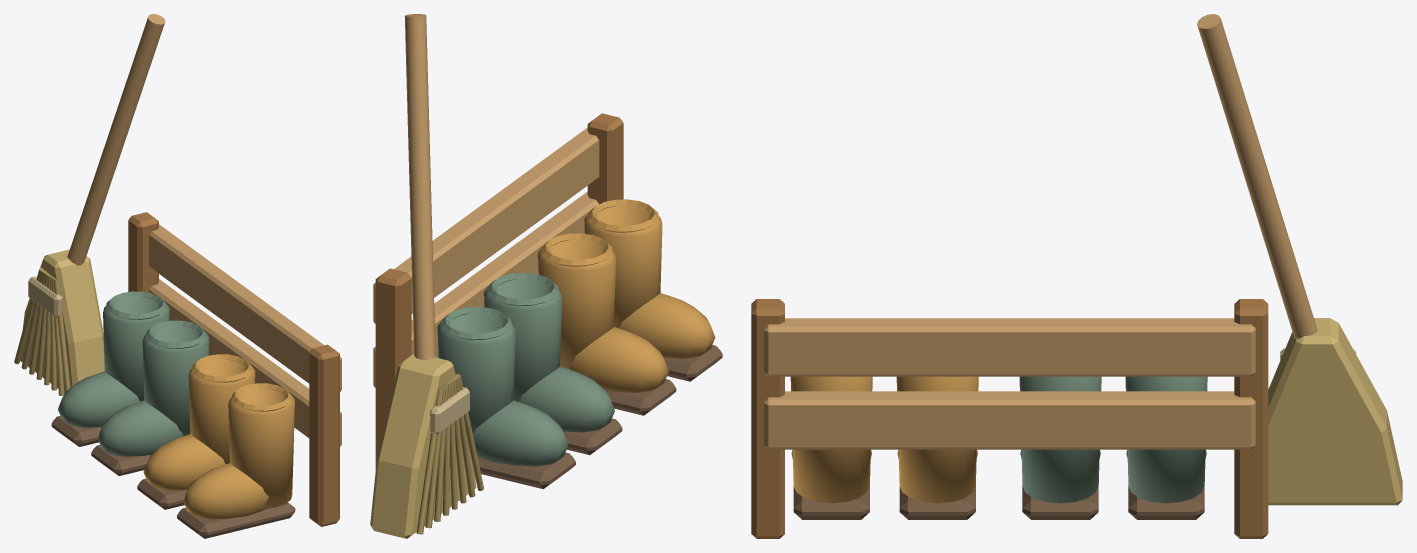
File: SM_BootsAndBroom.fbx
3 renders of one model, left to right at view 1: azimuth 30°, elevation 25°; view 2: azimuth 150°, elevation 25°; view 3: azimuth 270°, elevation 25°, orthographic. The views are drawn at different scales.
Parts seen in each view (by area): view 1: SM_BootsAndBroom; view 2: SM_BootsAndBroom; view 3: SM_BootsAndBroom.
Boxes of the visible parts, x1,y1,x2,y2 form: SM_BootsAndBroom: (14, 14, 341, 538); SM_BootsAndBroom: (370, 14, 722, 538); SM_BootsAndBroom: (751, 14, 1402, 538).
Size of the model in its own units: 0.4784 by 1.54 by 1.34.
